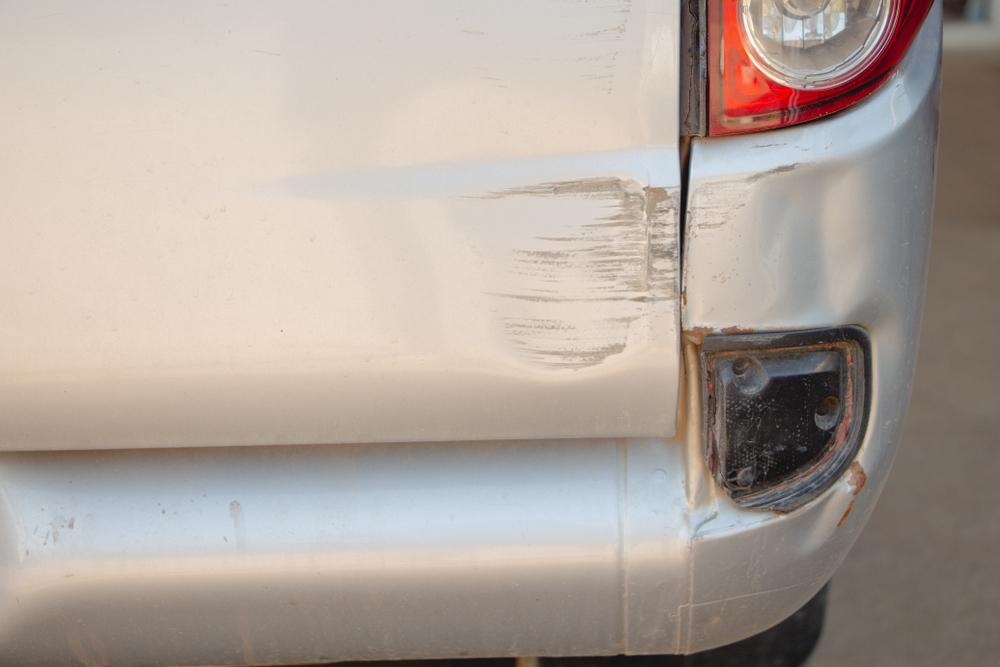dent: (427, 177, 675, 374), (753, 163, 865, 328)
